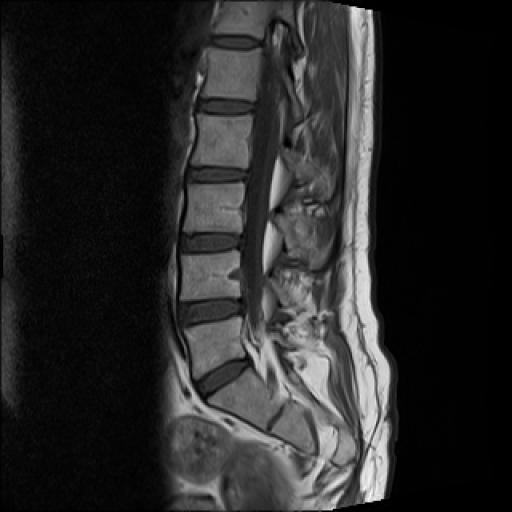L1: (202, 48, 261, 100)
L2: (191, 113, 253, 168)
L3: (184, 183, 244, 232)
L4: (180, 250, 240, 300)
L5: (185, 316, 245, 378)
S1: (205, 367, 285, 430)
